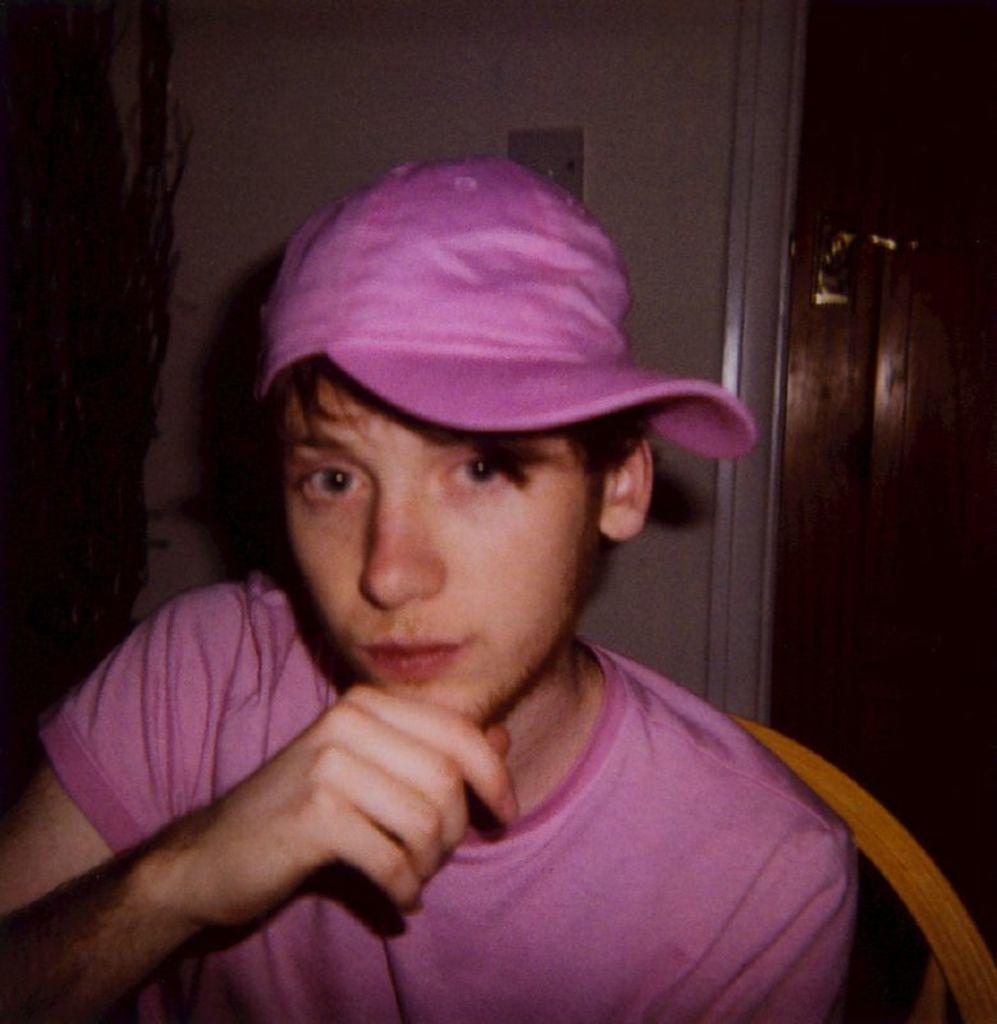Hat: (254, 150, 753, 464)
